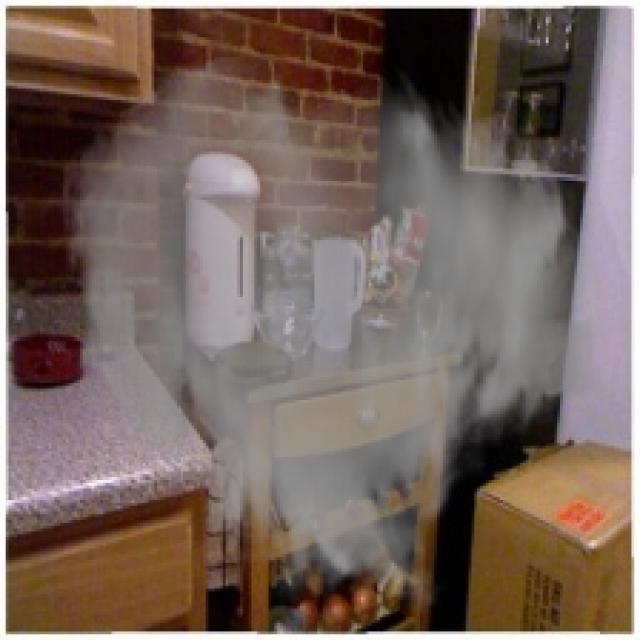Smoke: (57, 52, 609, 618)
